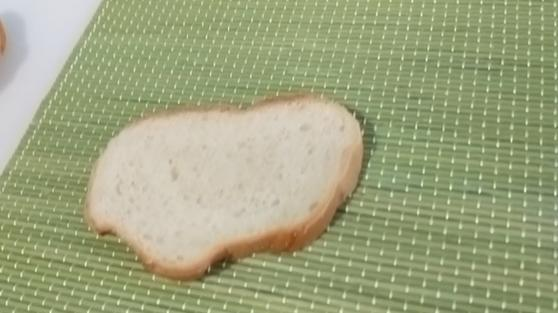white_bread: (84, 99, 365, 276)
